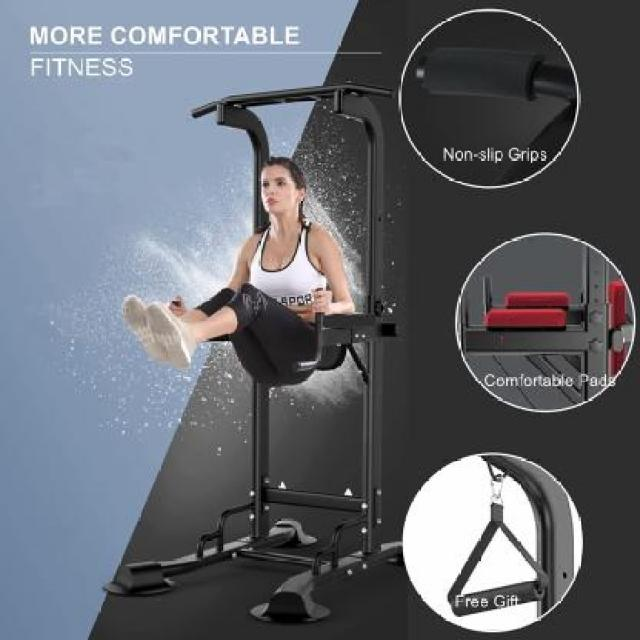chinning dipping: (110, 80, 398, 625)
